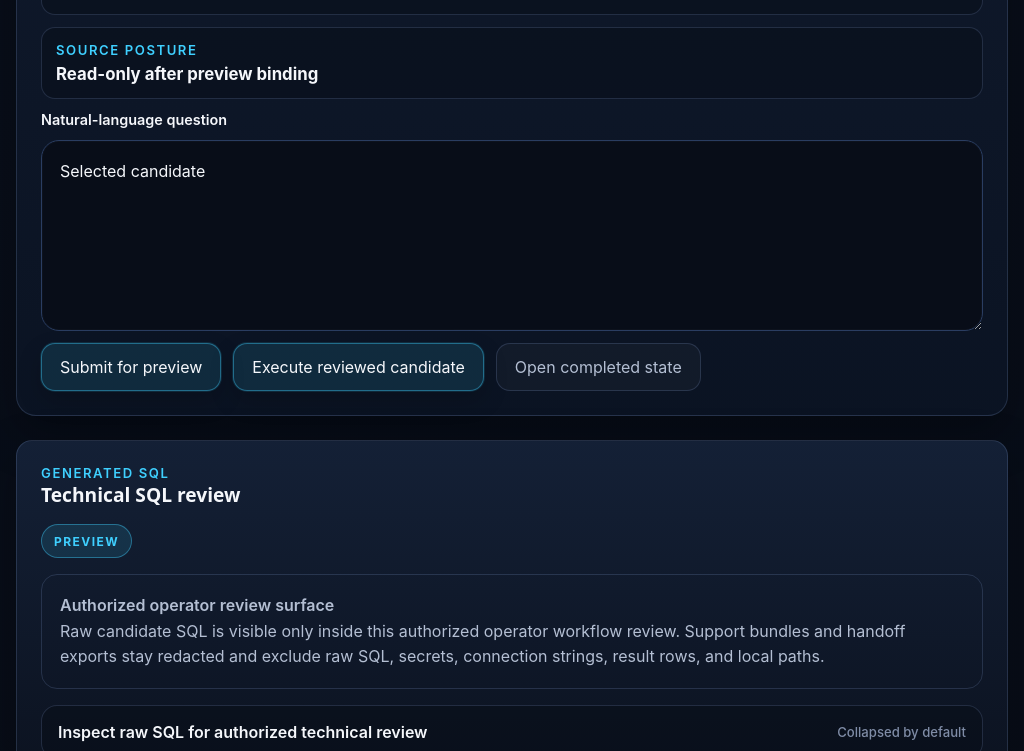
Test case: HomePage › preserves failed-execution guidance when execute transport fails before a run exists
(page scrolled)
Click the button "Execute reviewed candidate" at [359, 367], box [233,343,484,391]
(page scrolled)
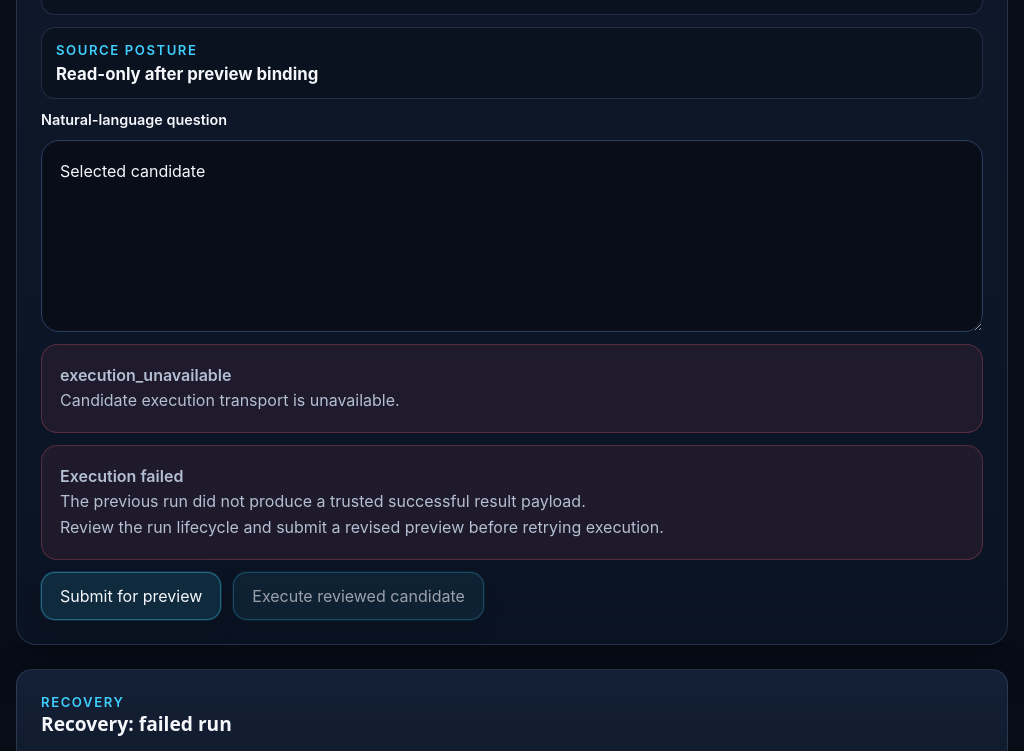
Expected: the message named "execute availability" does not show "no execution run selected", [41,445,983,560]
Expected: the message named "execute availability" shows "Execution failed", [60,466,183,486]
Expected: the message named "execute availability" shows "previous run did not produce a trusted successful result payload", [60,491,586,511]
